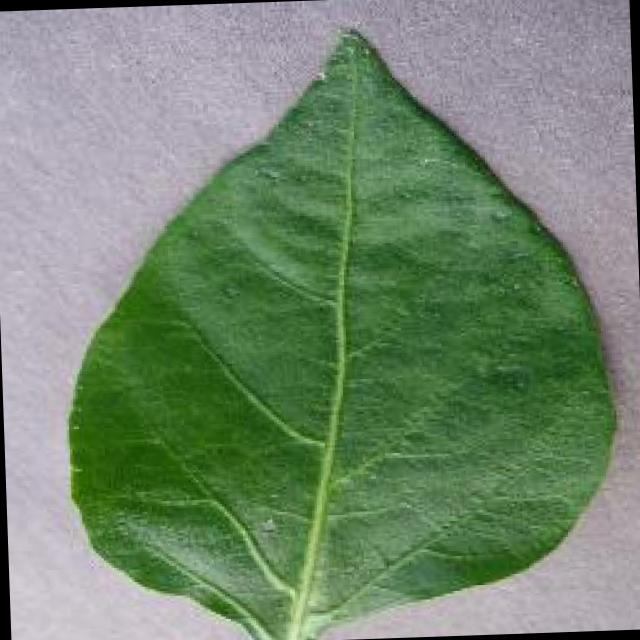Chilli_Healthy: (50, 15, 626, 640)
